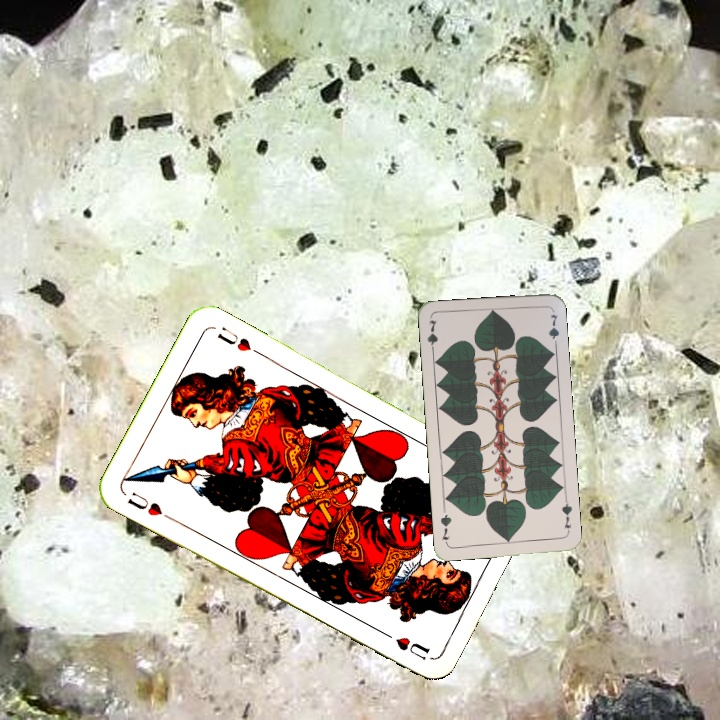G7: (423, 316, 440, 356), (558, 496, 575, 536)
HU: (123, 488, 175, 523)
